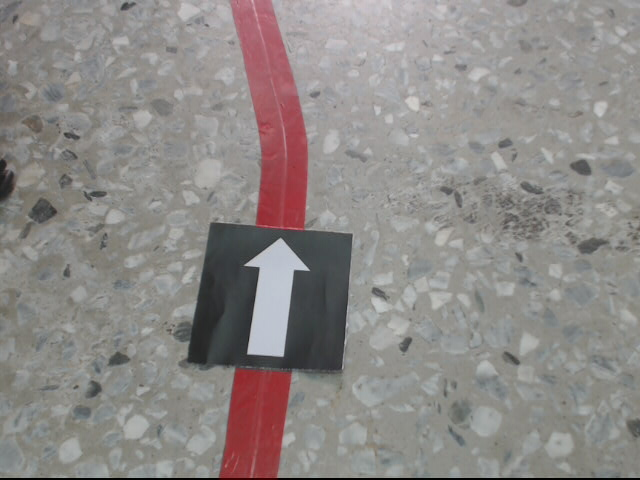straight: (187, 221, 353, 372)
